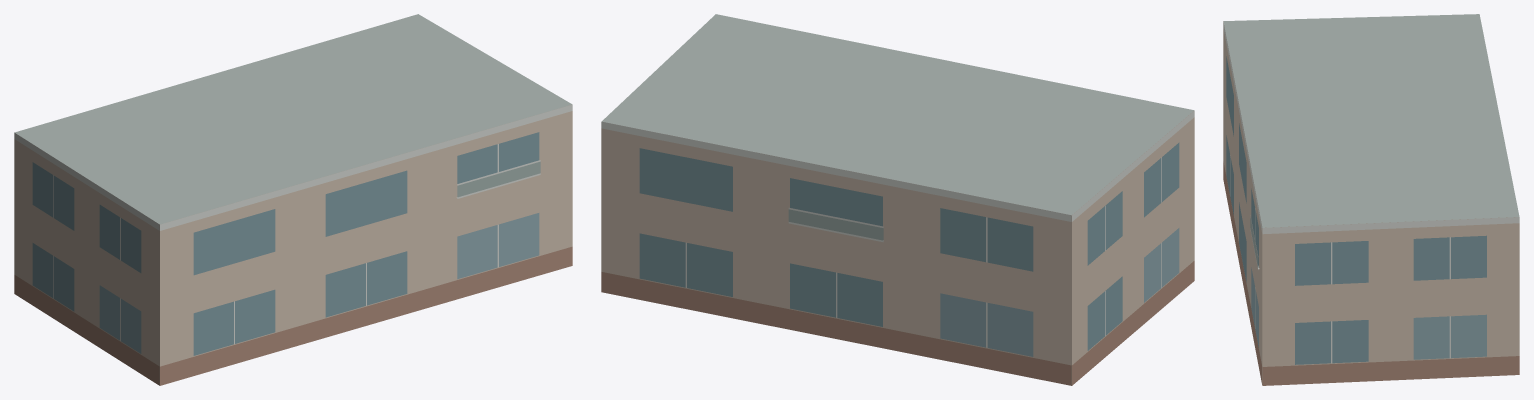
The model's file is survey-upis-32757127.glb.
3 renders of one model, left to right at view 1: azimuth 30°, elevation 25°; view 2: azimuth 150°, elevation 25°; view 3: azimuth 270°, elevation 25°, orthographic. The views are drawn at different scales.
Parts seen in each view (by area): view 1: survey-upis-32757127.tmp; view 2: survey-upis-32757127.tmp; view 3: survey-upis-32757127.tmp.
Part boxes in pixels (x1,y1,x2,y2): survey-upis-32757127.tmp: (14, 14, 572, 385); survey-upis-32757127.tmp: (601, 14, 1194, 385); survey-upis-32757127.tmp: (1223, 14, 1519, 385).
Size of the model in its own units: 17.72 by 6.1 by 10.37.
